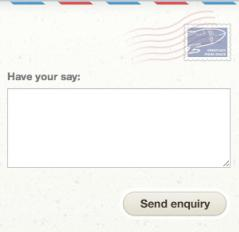button: (121, 191, 227, 216)
field: (6, 86, 231, 170)
field_with_label: (4, 71, 233, 173)
